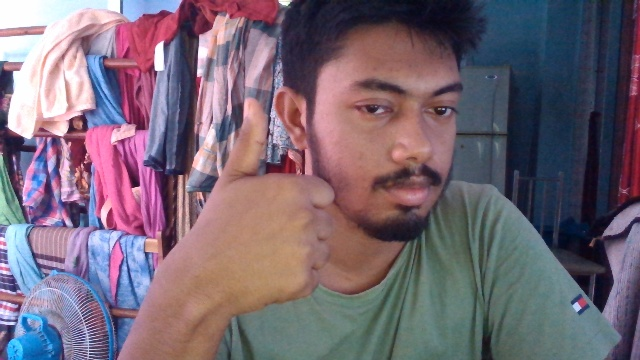yes: (209, 95, 337, 326)
